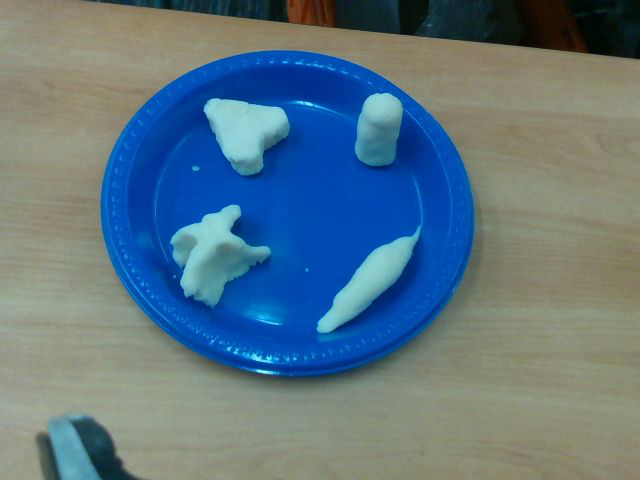mashed_potato: (319, 227, 419, 331), (171, 205, 271, 307), (206, 98, 291, 176), (355, 94, 403, 165)
